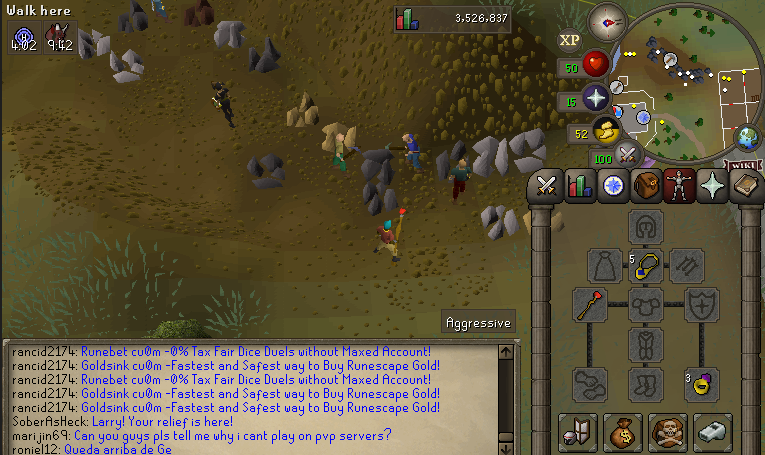depleted: (436, 132, 476, 184), (244, 146, 289, 192), (243, 33, 287, 80), (355, 145, 400, 185), (358, 179, 402, 218), (111, 1, 154, 39)
iron: (181, 1, 219, 31)
